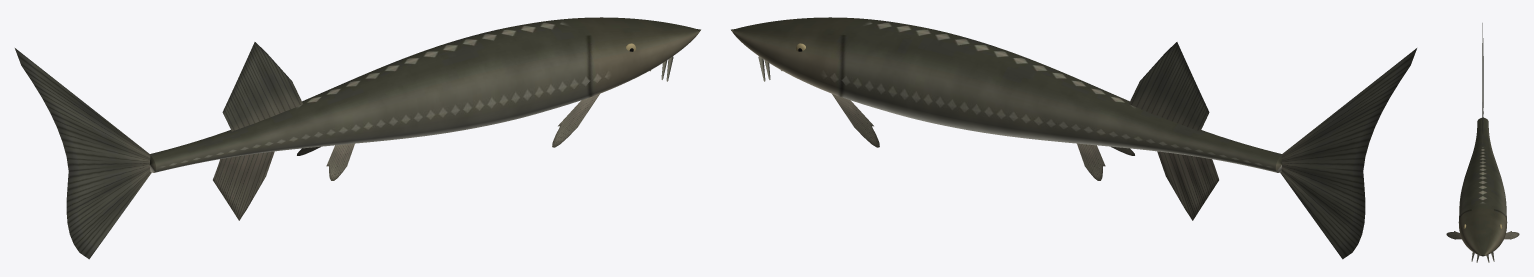
The model's file is fish_sturgeon.gltf.
The picture shows the model from 3 angles, left to right: view 1: azimuth 30°, elevation 25°; view 2: azimuth 150°, elevation 25°; view 3: azimuth 270°, elevation 25°; orthographic projection. The views are drawn at different scales.
Parts seen in each view (by area): view 1: fish_sturgeon; view 2: fish_sturgeon; view 3: fish_sturgeon.
Part boxes in pixels (left/top/right/bottom): fish_sturgeon: left=15, top=17, right=700, bottom=259; fish_sturgeon: left=731, top=17, right=1416, bottom=259; fish_sturgeon: left=1446, top=23, right=1519, bottom=262.
Bounding box in the file's own units: 1.35 × 0.4316 × 0.2483.
Materials: 7 (4 with a texture image).
